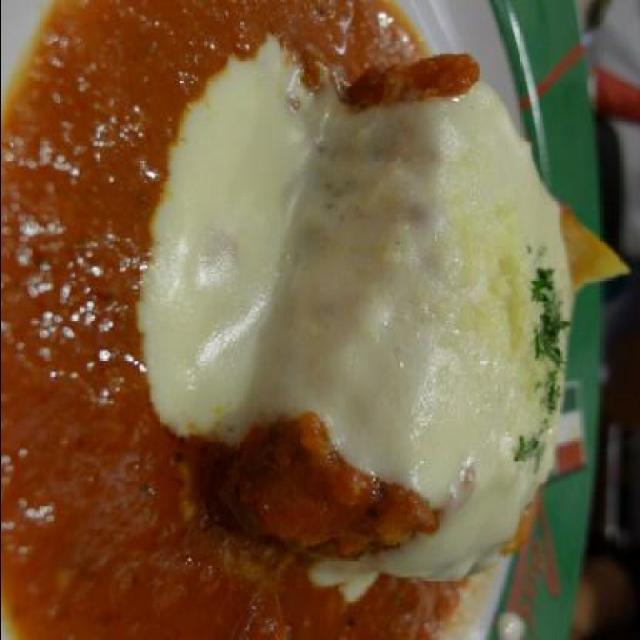Lasagna: (150, 31, 594, 640)
